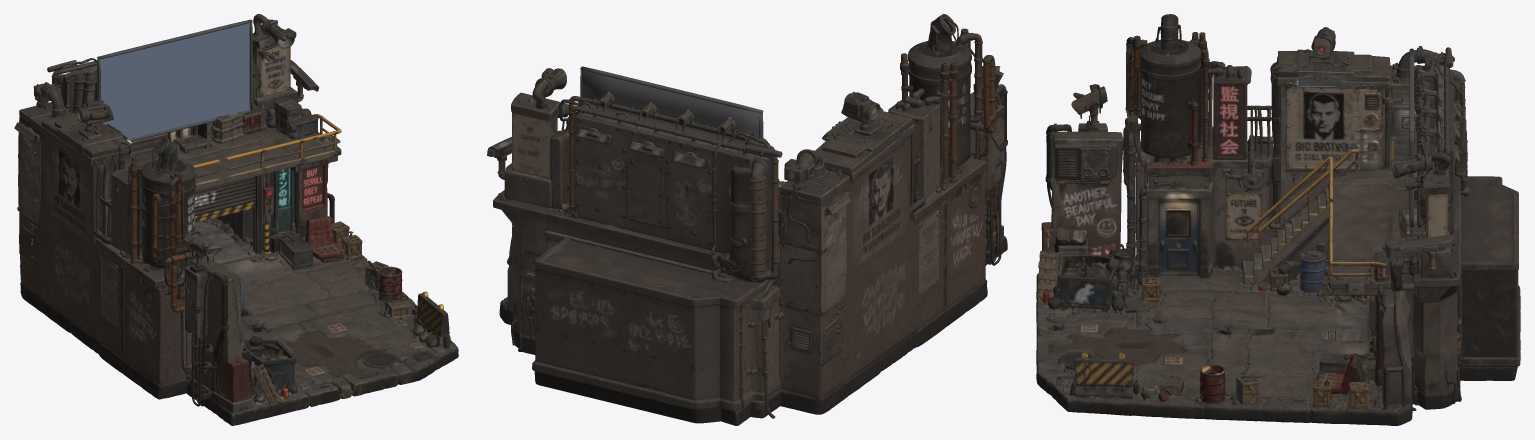
File: kfb-meshy-dystopia-alley.screen-a.v1.glb
3 views of the same model, side by side, from view 1: azimuth 30°, elevation 25°; view 2: azimuth 150°, elevation 25°; view 3: azimuth 270°, elevation 25° (orthographic). The views are drawn at different scales.
Visible parts, largest first — view 1: dystopia_alley, kfb_screen_slot, kfb_screen_frame; view 2: dystopia_alley, kfb_screen_frame; view 3: dystopia_alley, kfb_screen_frame.
Boxes of the visible parts, x1,y1,x2,y2 form: dystopia_alley: (14,14,458,425); kfb_screen_slot: (100,23,249,138); kfb_screen_frame: (97,19,252,141); dystopia_alley: (487,14,1007,425); kfb_screen_frame: (580,66,763,137); dystopia_alley: (1036,14,1520,425); kfb_screen_frame: (1409,48,1417,230).
Bounding box in the file's own units: 1.49 × 1.16 × 1.9.
3 materials, 1 textured.
